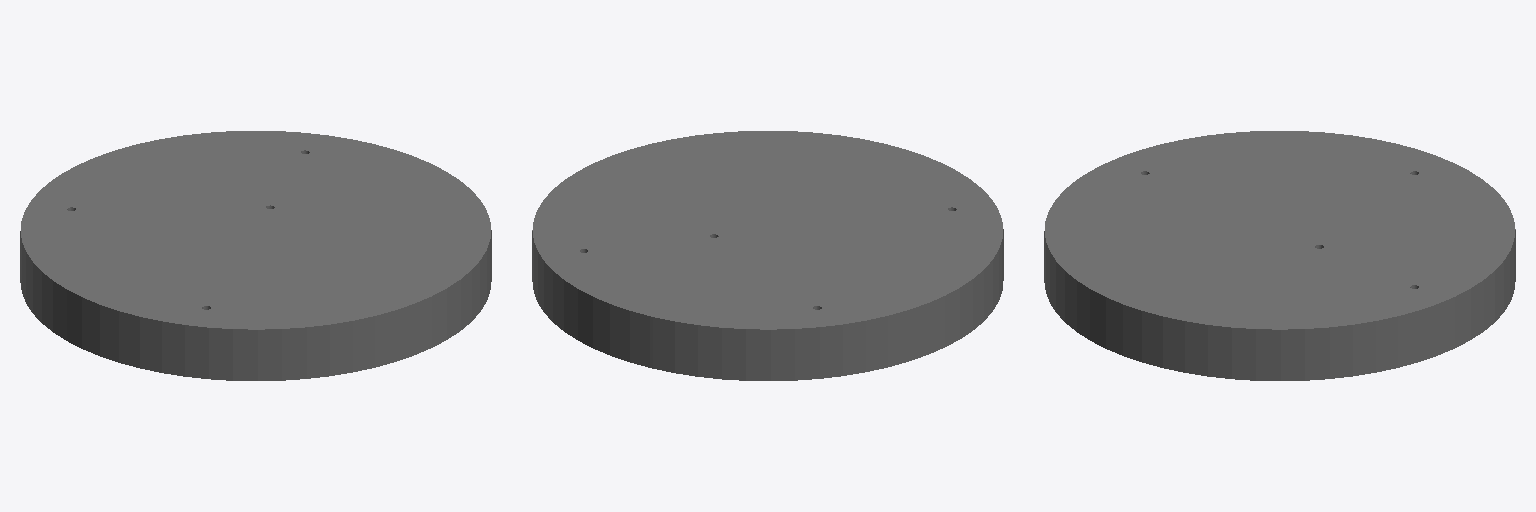
robot.urdf — push_object:
<?xml version="1.0" ?>
<robot name="push_object">
  <link name="link_x">
    <inertial>
      <mass value="0"/>
      <inertia ixx="0.0" ixy="0.0" ixz="0.0" iyy="0.0" iyz="0.0" izz="0.0"/>
    </inertial>
  </link>

  <link name="link_y">
    <inertial>
      <mass value="0"/>
      <inertia ixx="0.0" ixy="0.0" ixz="0.0" iyy="0.0" iyz="0.0" izz="0.0"/>
    </inertial>
  </link>
  
  <link name="link_z">
    <inertial>
      <mass value="0"/>
      <inertia ixx="0.0" ixy="0.0" ixz="0.0" iyy="0.0" iyz="0.0" izz="0.0"/>
    </inertial>
  </link>
  
  <link name="link_yaw">
    <inertial>
      <mass value="0"/>
      <inertia ixx="0.0" ixy="0.0" ixz="0.0" iyy="0.0" iyz="0.0" izz="0.0"/>
    </inertial>
  </link>

  <link name="link_object">
    <contact>
      <rolling_friction value="0.03"/>
      <spinning_friction value="0.03"/>
    </contact>

    <inertial>
      <origin rpy="0 0 0" xyz="0 0 0"/>
       <mass value="0.006350"/>
       <inertia ixx="0.894000" ixy="0" ixz="0" iyy="0.001230" iyz="0" izz="1"/>
    </inertial>
    <visual>
      <origin rpy="0 0 0" xyz="0 0 0.001230"/>
      <geometry>
        <mesh filename="ellip1.obj" scale="1.0 1.0 1.0"/>      
      </geometry>
      <material name="gray">
        <color rgba="0.5 0.5 0.5 1"/>
        <specular rgb="1 1 1"/>
      </material>
    </visual>
    
    <collision>
      <origin rpy="0 0 0" xyz="-0.0400 -0.0200 -0.0063"/>
      <geometry>
        <sphere radius="0.0065"/>
      </geometry>
    </collision>
        
    <collision>
      <origin rpy="0 0 0" xyz="-0.0400 0.0000 -0.0063"/>
      <geometry>
        <sphere radius="0.0065"/>
      </geometry>
    </collision>
        
    <collision>
      <origin rpy="0 0 0" xyz="-0.0400 0.0200 -0.0063"/>
      <geometry>
        <sphere radius="0.0065"/>
      </geometry>
    </collision>
        
    <collision>
      <origin rpy="0 0 0" xyz="-0.0200 -0.0400 -0.0063"/>
      <geometry>
        <sphere radius="0.0065"/>
      </geometry>
    </collision>
        
    <collision>
      <origin rpy="0 0 0" xyz="-0.0200 -0.0200 -0.0063"/>
      <geometry>
        <sphere radius="0.0065"/>
      </geometry>
    </collision>
        
    <collision>
      <origin rpy="0 0 0" xyz="-0.0200 0.0000 -0.0063"/>
      <geometry>
        <sphere radius="0.0065"/>
      </geometry>
    </collision>
        
    <collision>
      <origin rpy="0 0 0" xyz="-0.0200 0.0200 -0.0063"/>
      <geometry>
        <sphere radius="0.0065"/>
      </geometry>
    </collision>
        
    <collision>
      <origin rpy="0 0 0" xyz="-0.0200 0.0400 -0.0063"/>
      <geometry>
        <sphere radius="0.0065"/>
      </geometry>
    </collision>
        
    <collision>
      <origin rpy="0 0 0" xyz="0.0000 -0.0400 -0.0063"/>
      <geometry>
        <sphere radius="0.0065"/>
      </geometry>
    </collision>
        
    <collision>
      <origin rpy="0 0 0" xyz="0.0000 -0.0200 -0.0063"/>
      <geometry>
        <sphere radius="0.0065"/>
      </geometry>
    </collision>
        
    <collision>
      <origin rpy="0 0 0" xyz="0.0000 0.0000 -0.0063"/>
      <geometry>
        <sphere radius="0.0065"/>
      </geometry>
    </collision>
        
    <collision>
      <origin rpy="0 0 0" xyz="0.0000 0.0200 -0.0063"/>
      <geometry>
        <sphere radius="0.0065"/>
      </geometry>
    </collision>
        
    <collision>
      <origin rpy="0 0 0" xyz="0.0000 0.0400 -0.0063"/>
      <geometry>
        <sphere radius="0.0065"/>
      </geometry>
    </collision>
        
    <collision>
      <origin rpy="0 0 0" xyz="0.0200 -0.0400 -0.0063"/>
      <geometry>
        <sphere radius="0.0065"/>
      </geometry>
    </collision>
        
    <collision>
      <origin rpy="0 0 0" xyz="0.0200 -0.0200 -0.0063"/>
      <geometry>
        <sphere radius="0.0065"/>
      </geometry>
    </collision>
        
    <collision>
      <origin rpy="0 0 0" xyz="0.0200 0.0000 -0.0063"/>
      <geometry>
        <sphere radius="0.0065"/>
      </geometry>
    </collision>
        
    <collision>
      <origin rpy="0 0 0" xyz="0.0200 0.0200 -0.0063"/>
      <geometry>
        <sphere radius="0.0065"/>
      </geometry>
    </collision>
        
    <collision>
      <origin rpy="0 0 0" xyz="0.0200 0.0400 -0.0063"/>
      <geometry>
        <sphere radius="0.0065"/>
      </geometry>
    </collision>
        
    <collision>
      <origin rpy="0 0 0" xyz="0.0400 -0.0200 -0.0063"/>
      <geometry>
        <sphere radius="0.0065"/>
      </geometry>
    </collision>
        
    <collision>
      <origin rpy="0 0 0" xyz="0.0400 0.0000 -0.0063"/>
      <geometry>
        <sphere radius="0.0065"/>
      </geometry>
    </collision>
        
    <collision>
      <origin rpy="0 0 0" xyz="0.0400 0.0200 -0.0063"/>
      <geometry>
        <sphere radius="0.0065"/>
      </geometry>
    </collision>
        
  </link>
  
  <joint name="joint_x" type="prismatic">
    <axis xyz="1 0 0"/>
    <origin xyz="0.0 0.0 0"/>
    <parent link="link_x"/>
    <child link="link_y"/>
    <limit effort="1000.0" lower="-15" upper="15" velocity="5"/>
  </joint>

  <joint name="joint_y" type="prismatic">
    <axis xyz="0 1 0"/>
    <origin xyz="0.0 0.0 0"/>
    <parent link="link_y"/>
    <child link="link_z"/>
    <limit effort="1000.0" lower="-15" upper="15" velocity="5"/>
  </joint>

  <joint name="joint_z" type="prismatic">
    <axis xyz="0 0 1"/>
    <origin xyz="0.0 0.0 0"/>
    <parent link="link_z"/>
    <child link="link_yaw"/>
    <limit effort="1000.0" lower="-15" upper="15" velocity="5"/>
  </joint>

  <joint name="joint_yaw" type="continuous">
    <axis xyz="0 0 1"/>
    <origin xyz="0.0 0.0 0"/>
    <parent link="link_yaw"/>
    <child link="link_object"/>
  </joint>
</robot>

--- What the picture shows (computed from the rendered views, not written in the file) ---
The picture shows the robot from 3 angles, left to right: view 1: azimuth 30°, elevation 25°; view 2: azimuth 150°, elevation 25°; view 3: azimuth 270°, elevation 25°; orthographic projection.
Robot: push_object — 5 links, 4 joints (1 continuous, 3 prismatic); root link link_x; default pose: every joint at zero.
Visible links, largest first — view 1: link_object; view 2: link_object; view 3: link_object.
Link boxes in pixels (x1,y1,x2,y2): link_object: (20,131,491,380); link_object: (532,131,1003,380); link_object: (1044,131,1515,380).
Size in the robot's own frame: 0.1049 by 0.1049 by 0.0127 metres.
1 mesh visuals loaded from 1 distinct referenced files (1 OBJ).